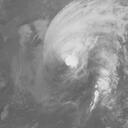cyclone: (43, 18, 91, 84)
